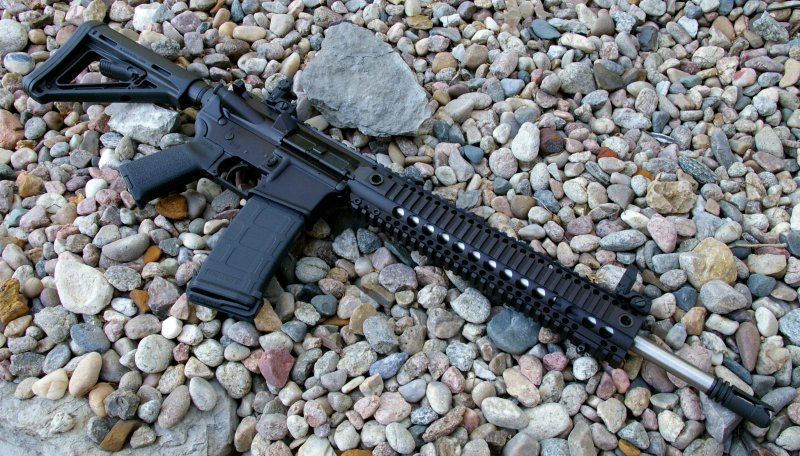Rifle: (21, 21, 776, 436)
